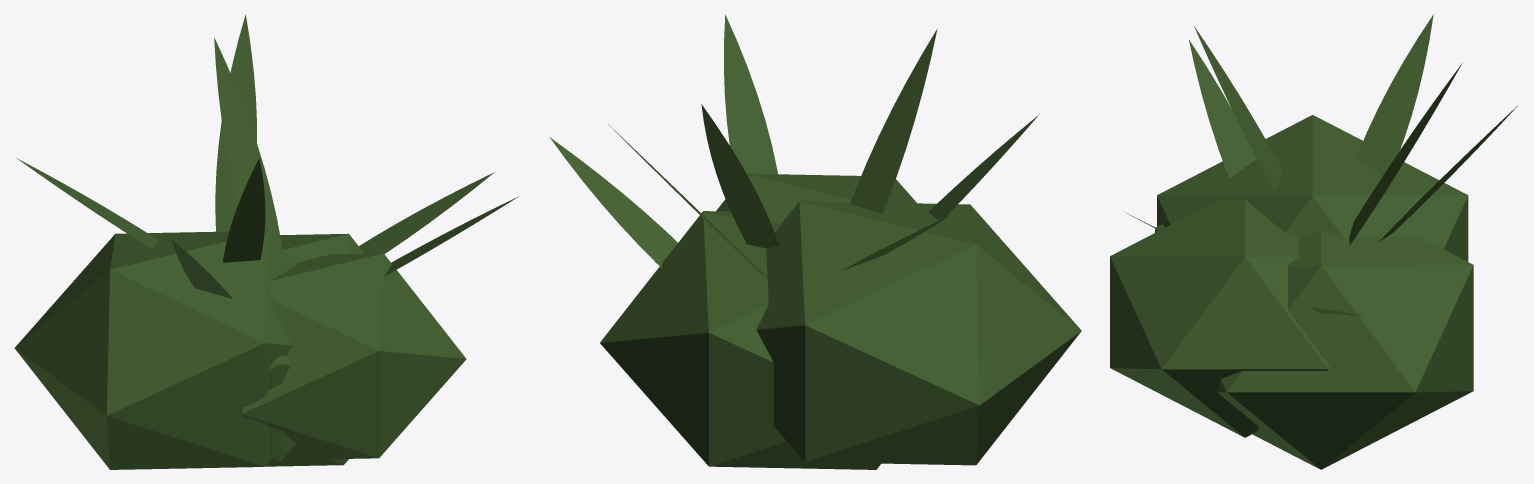
File: jungle_bush.glb
3 renders of one model, left to right at view 1: azimuth 30°, elevation 25°; view 2: azimuth 150°, elevation 25°; view 3: azimuth 270°, elevation 25°, orthographic. The views are drawn at different scales.
Parts seen in each view (by area): view 1: JungleBush; view 2: JungleBush; view 3: JungleBush.
Part boxes in pixels (x1,y1,x2,y2): JungleBush: [14, 14, 518, 469]; JungleBush: [549, 15, 1081, 469]; JungleBush: [1110, 14, 1517, 469].
Size of the model in its own units: 1.58 by 1.24 by 1.23.
